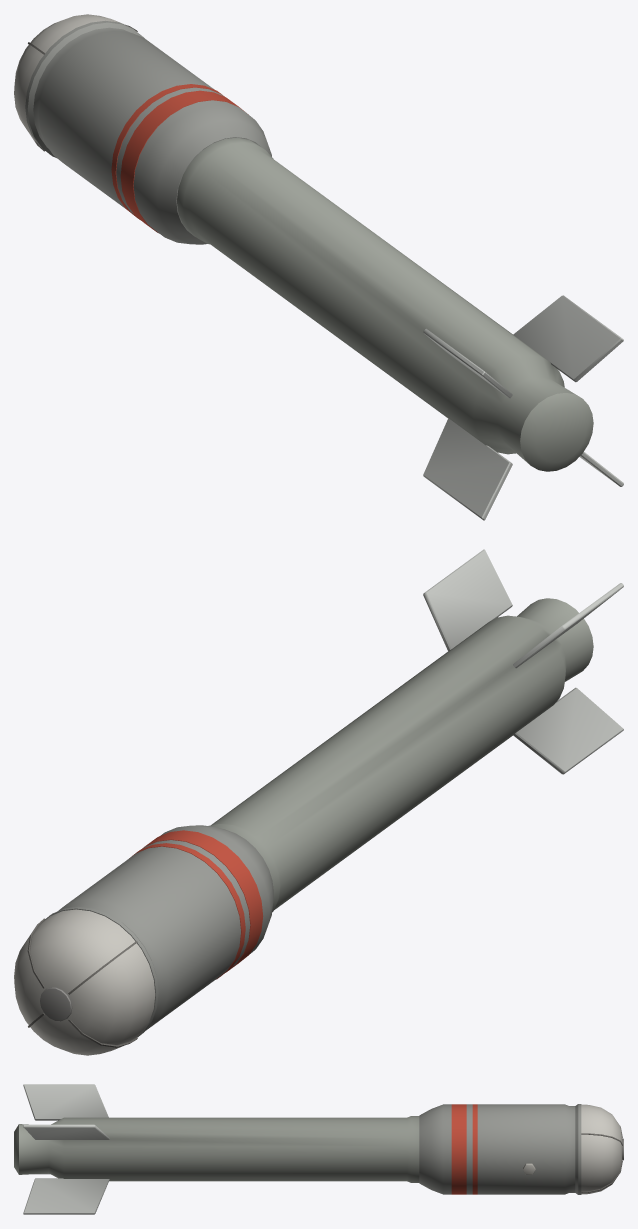
Rendered from rocket-incendiary.glb.
The picture shows the model from 3 angles, top to bottom: view 1: azimuth 30°, elevation 25°; view 2: azimuth 150°, elevation 25°; view 3: azimuth 270°, elevation 25°; orthographic projection. The views are drawn at different scales.
Visible parts, largest first — view 1: Body_lod0; view 2: Body_lod0; view 3: Body_lod0.
Boxes of the visible parts, left/top/right/bottom form: Body_lod0: left=14, top=14, right=623, bottom=520; Body_lod0: left=14, top=549, right=623, bottom=1055; Body_lod0: left=14, top=1084, right=623, bottom=1214.
Size of what is drawn, in the model's own units: 0.0989 by 0.0989 by 0.6097.
